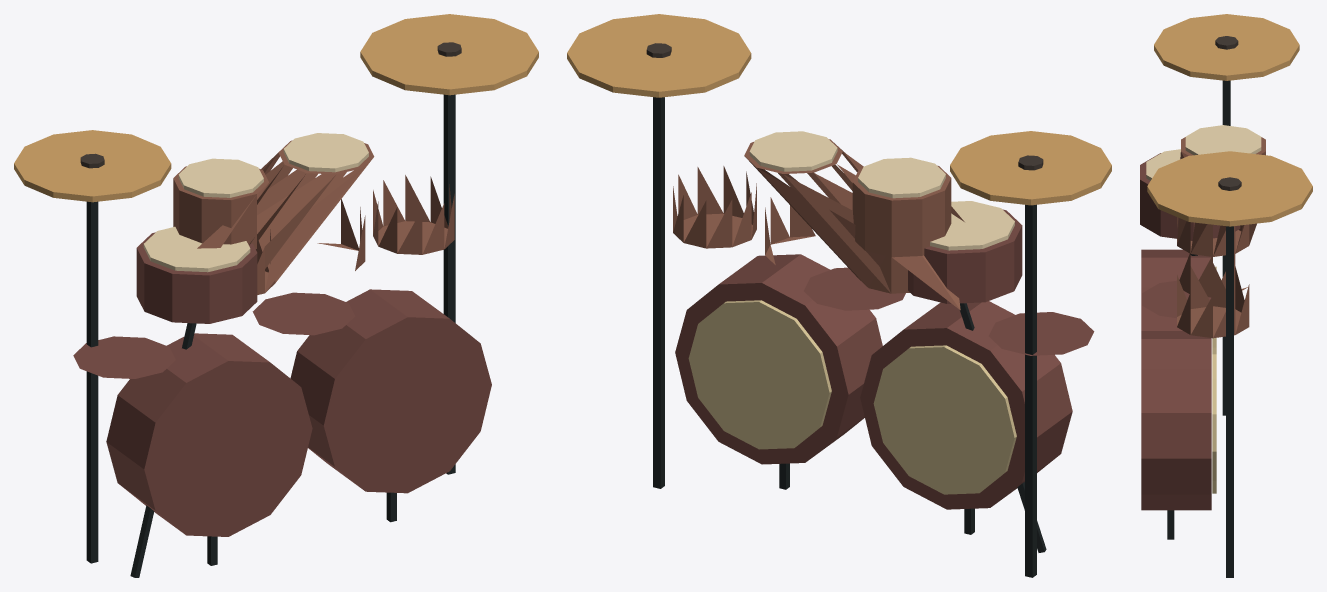
File: lwf_drum_hardware_double_kick_v1.glb
3 views of the same model, side by side, from view 1: azimuth 30°, elevation 25°; view 2: azimuth 150°, elevation 25°; view 3: azimuth 270°, elevation 25° (orthographic). The views are drawn at different scales.
Parts seen in each view (by area): view 1: LWF_Drummer_DrumShells, LWF_Drummer_CymbalsHardware; view 2: LWF_Drummer_DrumShells, LWF_Drummer_CymbalsHardware; view 3: LWF_Drummer_DrumShells, LWF_Drummer_CymbalsHardware.
Part boxes in pixels (x1,y1,x2,y2): LWF_Drummer_DrumShells: (73, 133, 491, 565); LWF_Drummer_CymbalsHardware: (14, 14, 538, 577); LWF_Drummer_DrumShells: (673, 131, 1094, 534); LWF_Drummer_CymbalsHardware: (567, 14, 1111, 577); LWF_Drummer_DrumShells: (1140, 125, 1265, 539); LWF_Drummer_CymbalsHardware: (1147, 14, 1312, 577).
Bounding box in the file's own units: 1.63 × 1.32 × 0.5217.
Materials: 1 (1 with a texture image).
